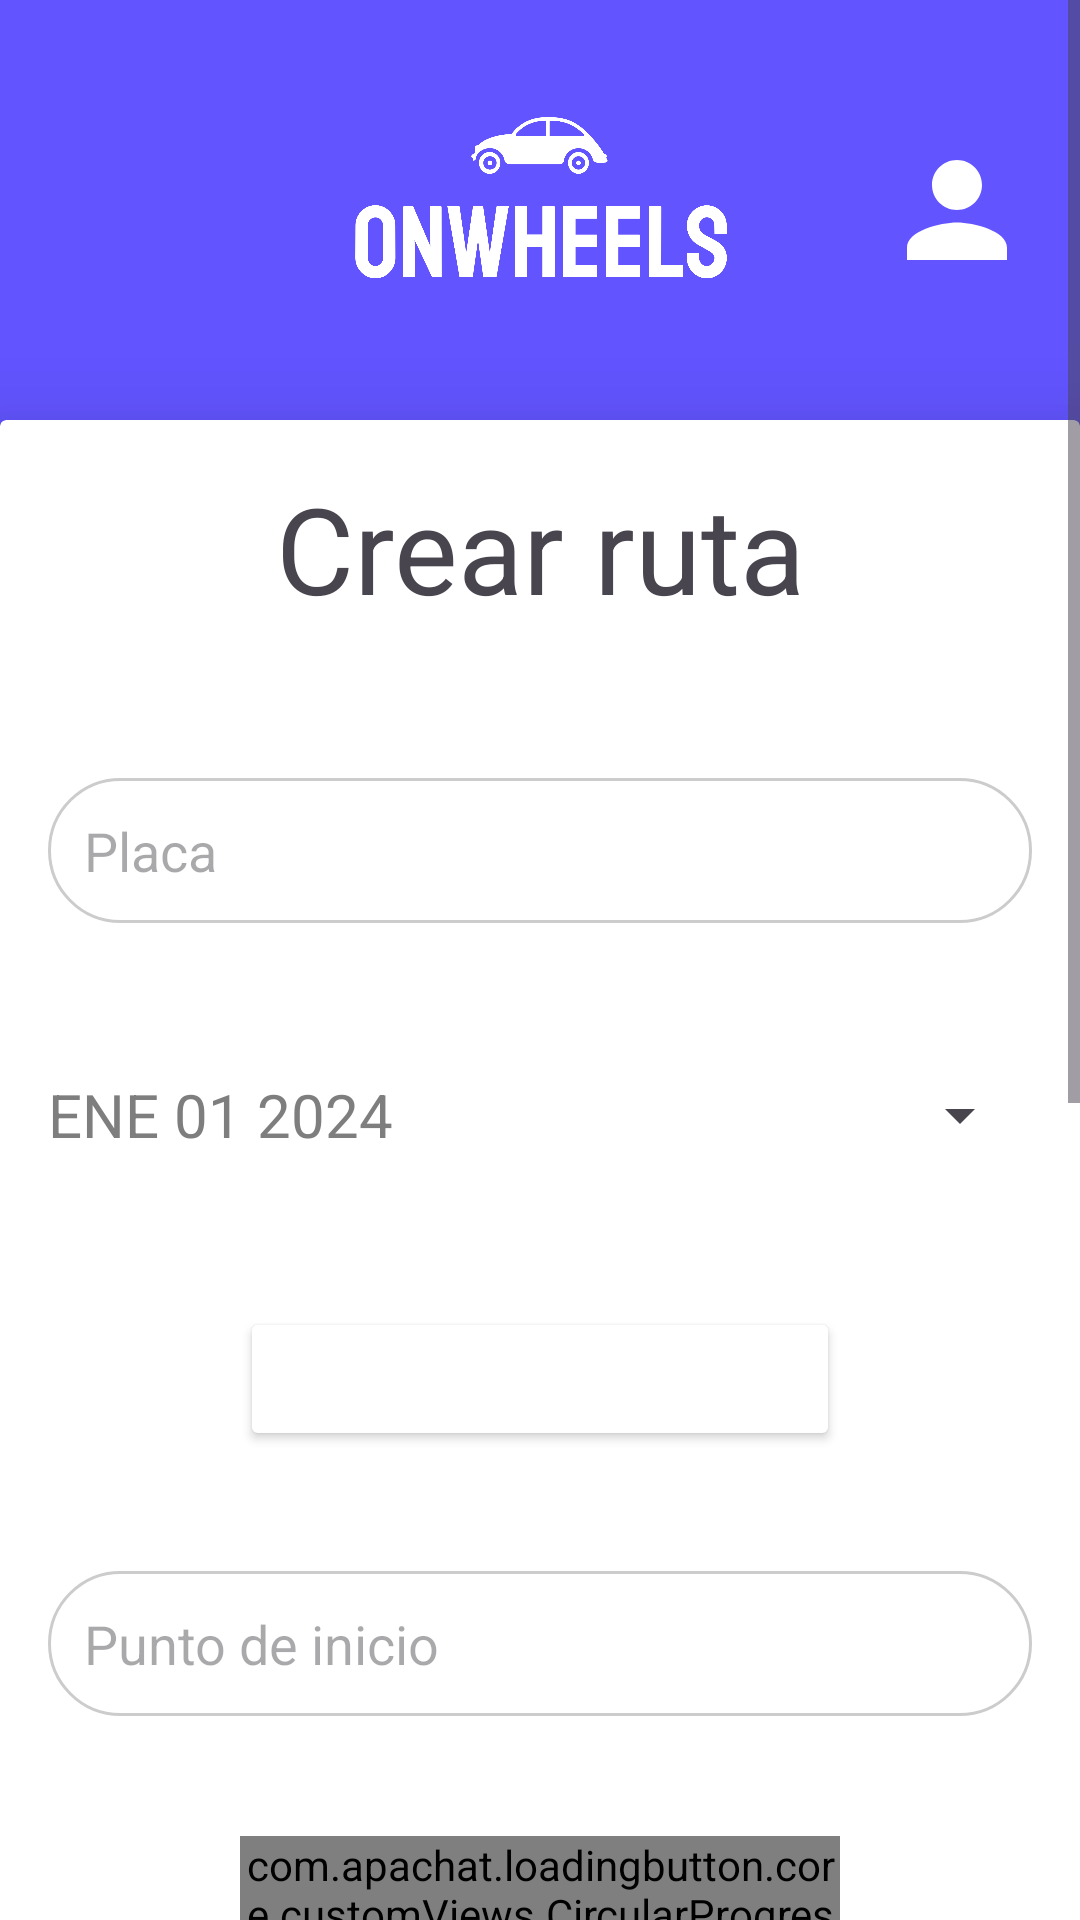

Screen size 1080 × 1920. Icon name, then its center in pixels as point (x, y):
Profile Image: point (957, 210)
